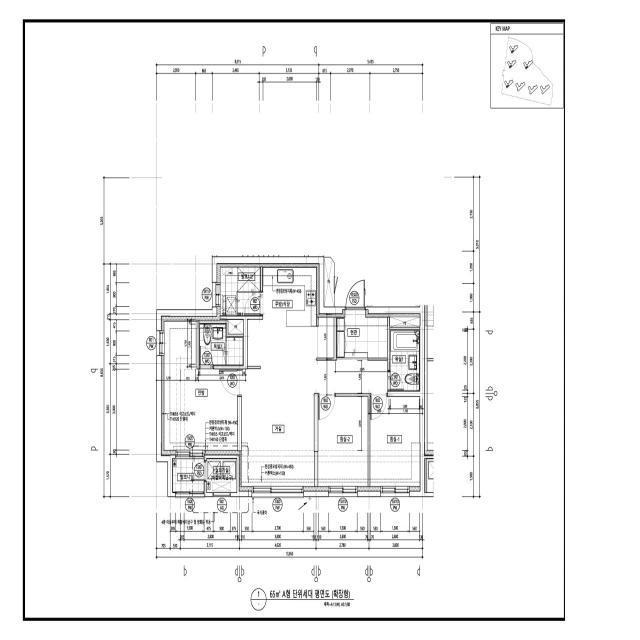space_balconi: (217, 264, 260, 315), (173, 459, 204, 493)
space_bedroom: (162, 316, 238, 455), (318, 397, 368, 491), (370, 397, 420, 491)
space_front: (337, 310, 387, 361)
space_kitchen: (248, 264, 334, 369)
space_living_room: (239, 361, 387, 491)
space_other: (324, 258, 334, 307), (390, 314, 420, 328), (220, 319, 243, 334)
space_outdoor_room: (207, 459, 237, 492)
space_toilet: (200, 324, 243, 365), (391, 331, 419, 390)
